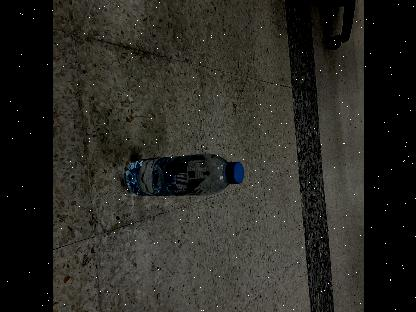Plastic Bottle: (122, 153, 242, 197)
